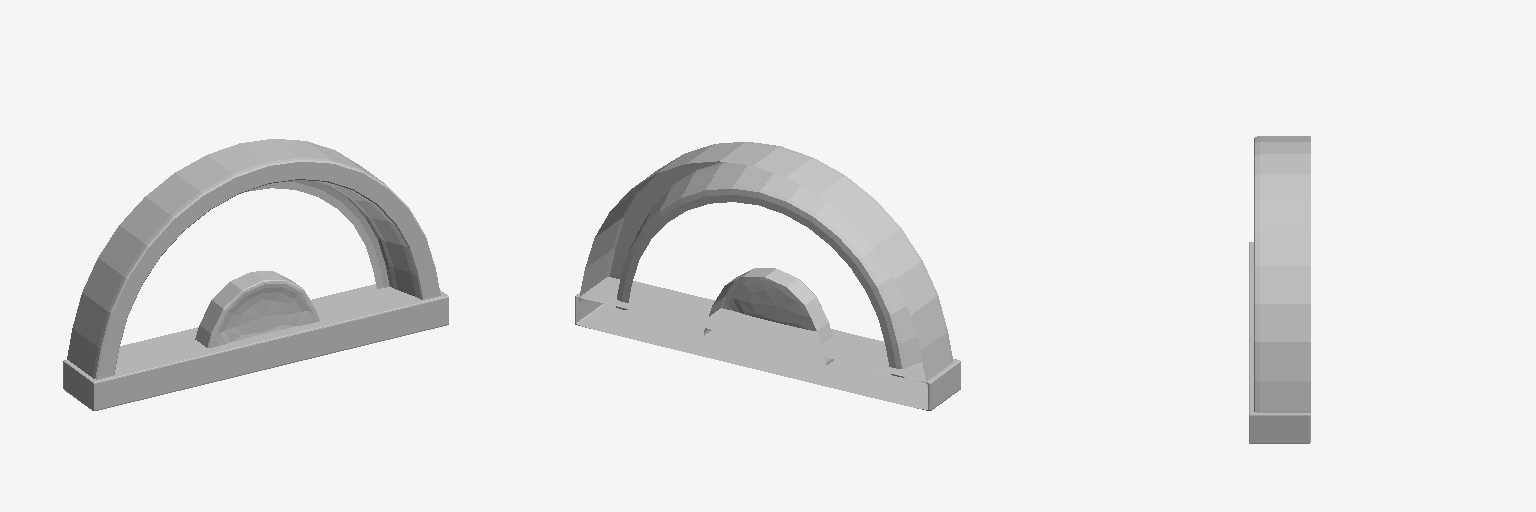
The model's file is half-housing.obj.
3 renders of one model, left to right at view 1: azimuth 30°, elevation 25°; view 2: azimuth 150°, elevation 25°; view 3: azimuth 270°, elevation 25°, orthographic.
Visible parts, largest first — view 1: Cylinder_Cylinder.002; view 2: Cylinder_Cylinder.002; view 3: Cylinder_Cylinder.002.
Boxes of the visible parts, x1=… form: Cylinder_Cylinder.002: x1=63, y1=139, x2=448, y2=410; Cylinder_Cylinder.002: x1=575, y1=142, x2=960, y2=410; Cylinder_Cylinder.002: x1=1249, y1=136, x2=1310, y2=443.
Bounding box in the file's own units: 2.04 × 1.11 × 0.309.